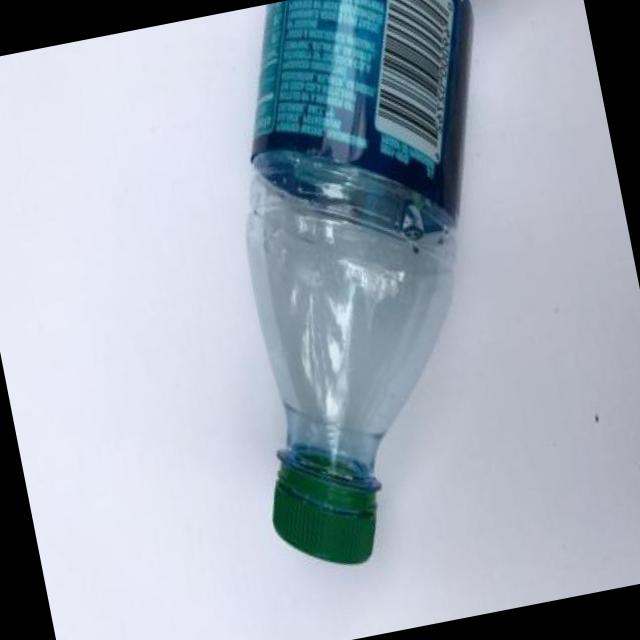plastic_bottle: (174, 0, 590, 578)
